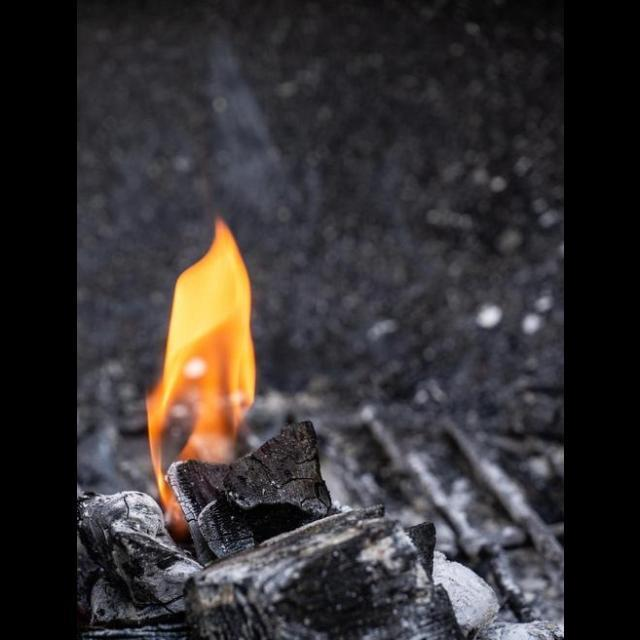Fire: (142, 217, 254, 537)
